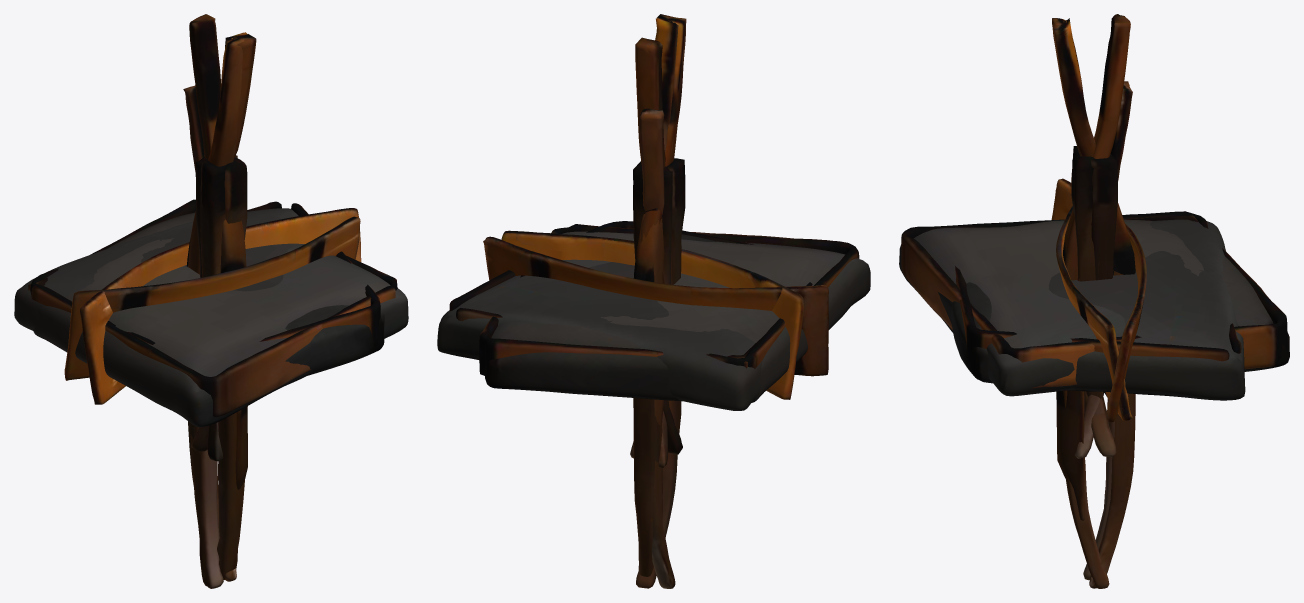
3 renders of one model, left to right at view 1: azimuth 30°, elevation 25°; view 2: azimuth 150°, elevation 25°; view 3: azimuth 270°, elevation 25°, orthographic.
Parts seen in each view (by area): view 1: root.0, root.1, root.6, root.2, root.5, root.4, root.7, root.8, root.3, root.13, root.9, root.10 (+1 smaller); view 2: root.0, root.1, root.4, root.5, root.8, root.7, root.2, root.6, root.3, root.9, root.13, root.11 (+1 smaller); view 3: root.1, root.0, root.2, root.6, root.7, root.9, root.3, root.8, root.11, root.4, root.10, root.5 (+2 smaller).
Boxes of the visible parts, x1,y1,x2,y2 form: root.0: [33, 212, 408, 426]; root.1: [14, 208, 384, 375]; root.6: [189, 14, 247, 579]; root.2: [28, 199, 397, 416]; root.5: [64, 216, 360, 380]; root.4: [80, 208, 361, 404]; root.7: [188, 32, 256, 588]; root.8: [187, 36, 244, 581]; root.3: [30, 201, 380, 346]; root.13: [200, 161, 233, 277]; root.9: [183, 85, 247, 489]; root.10: [191, 157, 247, 451]; root.0: [485, 231, 870, 402]; root.1: [437, 233, 762, 410]; root.4: [483, 236, 828, 376]; root.5: [501, 230, 804, 399]; root.8: [633, 17, 686, 576]; root.7: [633, 14, 678, 588]; root.2: [479, 224, 859, 375]; root.6: [635, 37, 681, 588]; root.3: [449, 221, 812, 368]; root.9: [639, 108, 664, 214]; root.13: [630, 158, 685, 458]; root.11: [633, 161, 682, 454]; root.1: [951, 219, 1245, 400]; root.0: [899, 219, 1289, 396]; root.2: [901, 215, 1287, 388]; root.6: [1063, 14, 1130, 588]; root.7: [1052, 18, 1135, 580]; root.9: [1056, 81, 1132, 520]; root.3: [955, 211, 1241, 367]; root.8: [1052, 18, 1135, 588]; root.11: [1090, 154, 1117, 396]; root.4: [1051, 178, 1146, 422]; root.10: [1071, 154, 1108, 422]; root.5: [1056, 206, 1132, 420].
Bounding box in the file's own units: 14888 × 25388 × 15994.
1 material, 1 textured.
